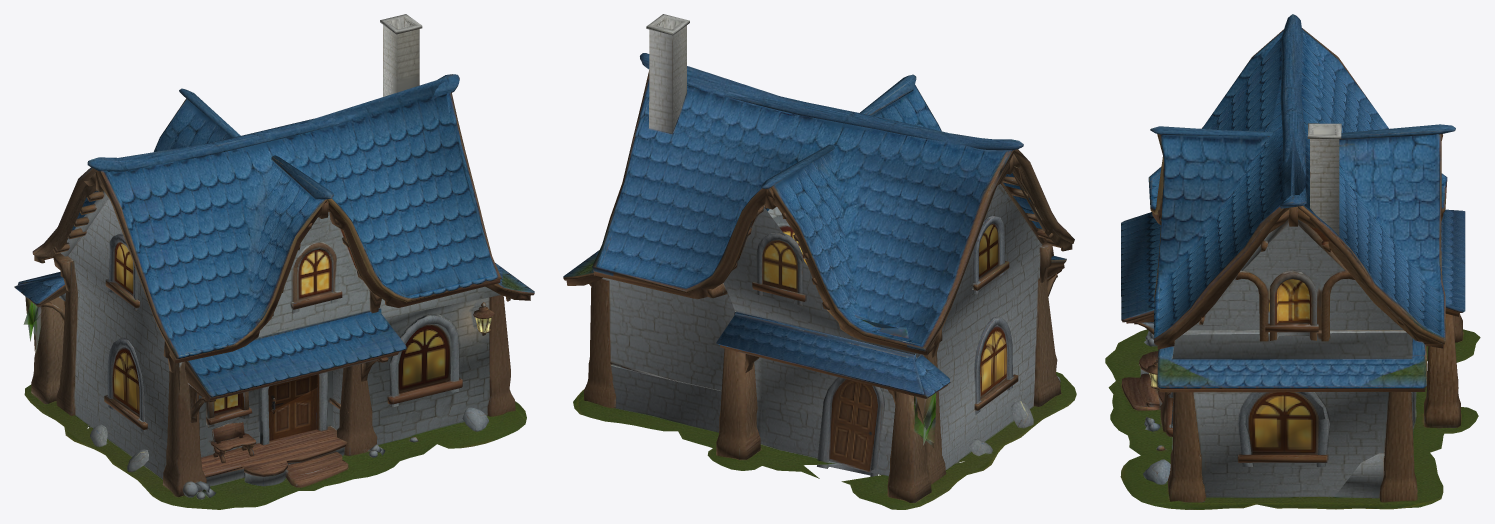
The model's file is house_b_eldarwen.glb.
3 renders of one model, left to right at view 1: azimuth 30°, elevation 25°; view 2: azimuth 150°, elevation 25°; view 3: azimuth 270°, elevation 25°, orthographic. The views are drawn at different scales.
Bounding box in the file's own units: 0.958 × 0.8408 × 0.792.
1 material, 1 textured.
